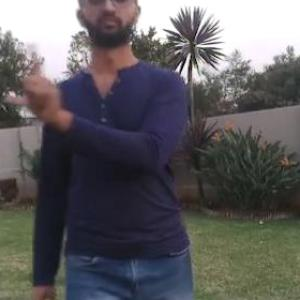land_hand: (1, 40, 73, 125)
